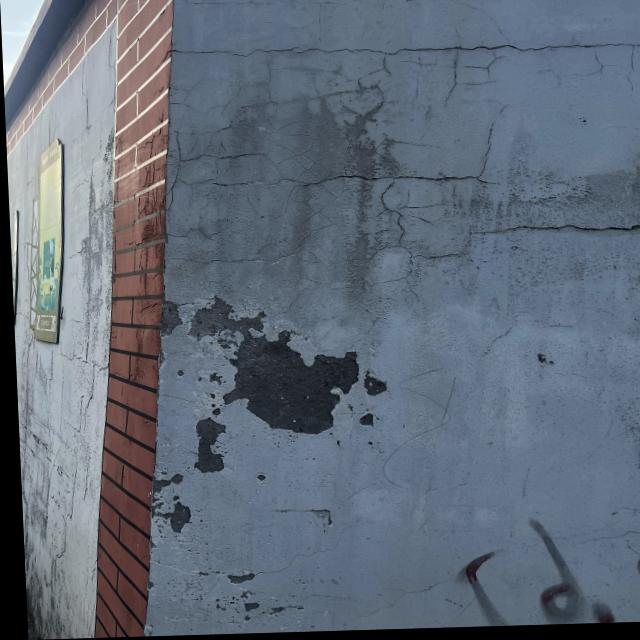crack: (243, 121, 511, 214), (175, 32, 640, 75), (457, 209, 640, 250)
spalling: (145, 288, 429, 548)
